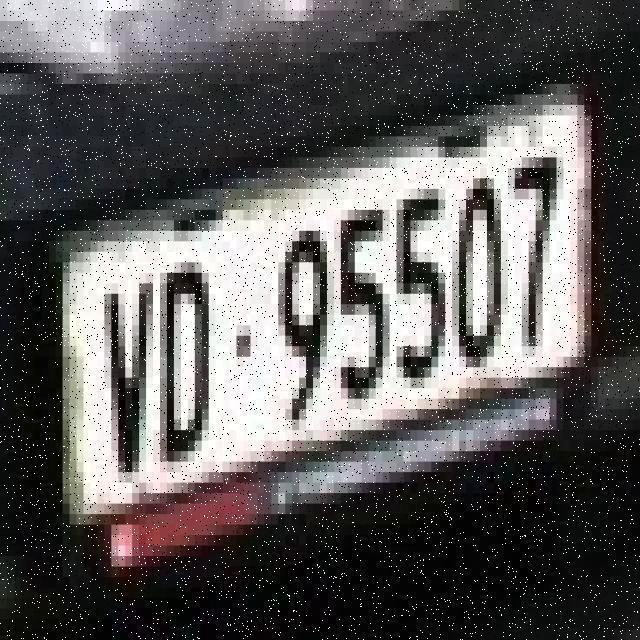License Plate: (48, 82, 616, 530)
